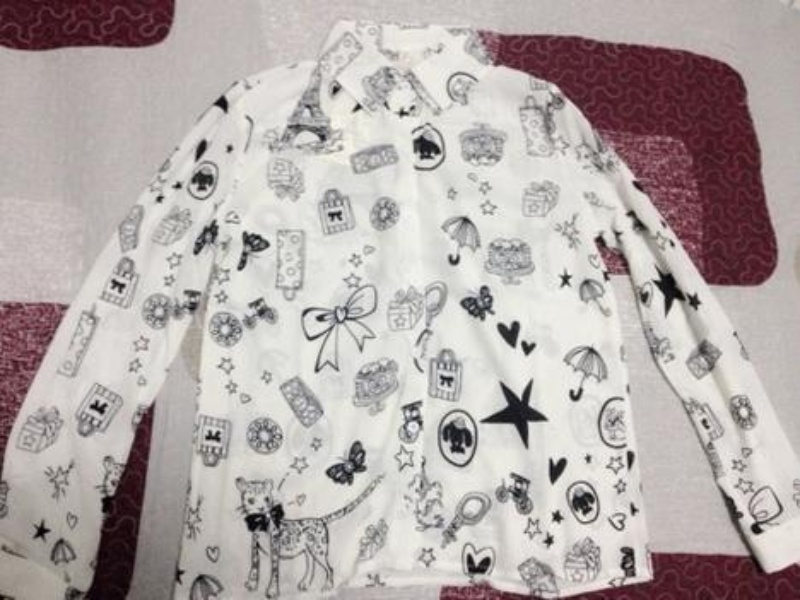long_sleeved_shirt: (5, 17, 798, 598)
